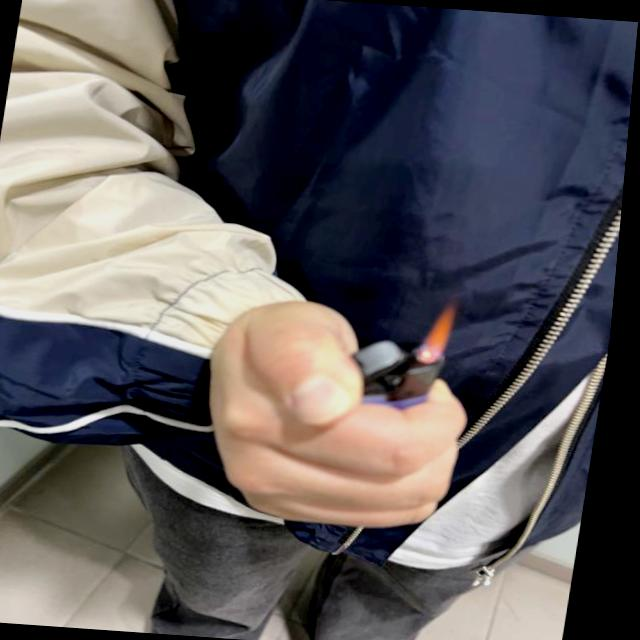helmet: (425, 302, 465, 360)
